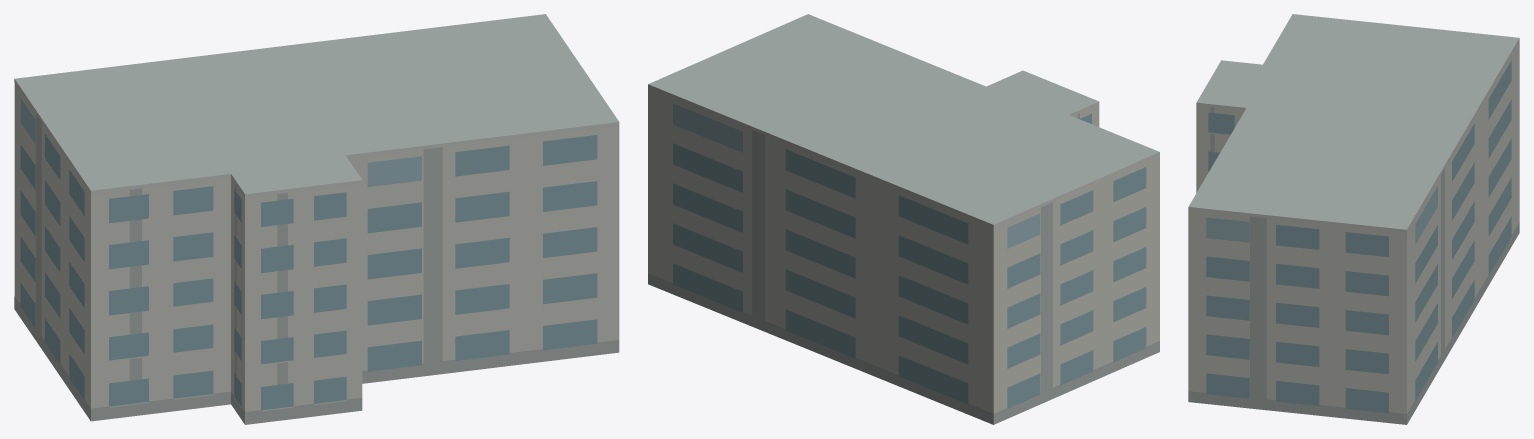
The model's file is residential-d375ceed-3de7-4234-8244-87e175396424.glb.
3 views of the same model, side by side, from view 1: azimuth 30°, elevation 25°; view 2: azimuth 150°, elevation 25°; view 3: azimuth 270°, elevation 25° (orthographic). The views are drawn at different scales.
Parts seen in each view (by area): view 1: residential-d375ceed-3de7-4234-8244-87e175396424.tmp; view 2: residential-d375ceed-3de7-4234-8244-87e175396424.tmp; view 3: residential-d375ceed-3de7-4234-8244-87e175396424.tmp.
Boxes of the visible parts, x1,y1,x2,y2 form: residential-d375ceed-3de7-4234-8244-87e175396424.tmp: [14, 14, 619, 424]; residential-d375ceed-3de7-4234-8244-87e175396424.tmp: [648, 14, 1159, 424]; residential-d375ceed-3de7-4234-8244-87e175396424.tmp: [1188, 14, 1519, 424].
Size of the model in its own units: 36.17 by 15.25 by 23.47.
